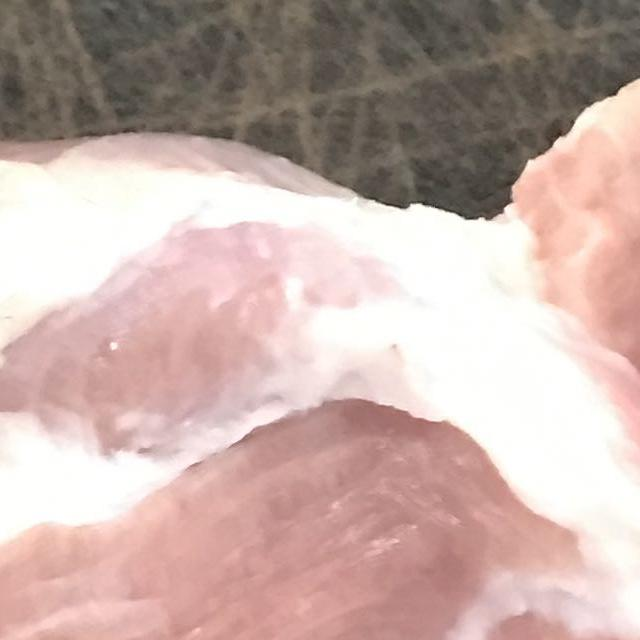pork: (0, 0, 640, 640), (0, 85, 640, 640)
